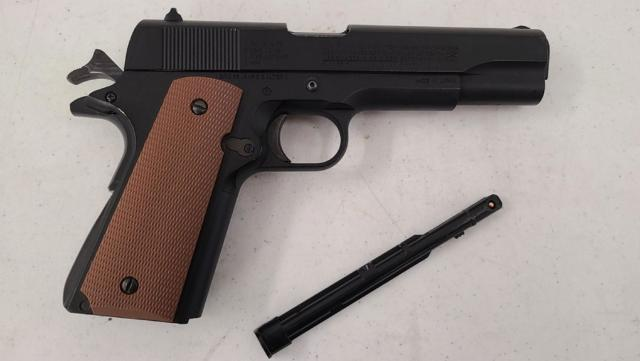handgun: (58, 5, 556, 329)
